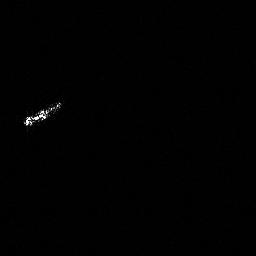ship: (23, 99, 63, 129)
